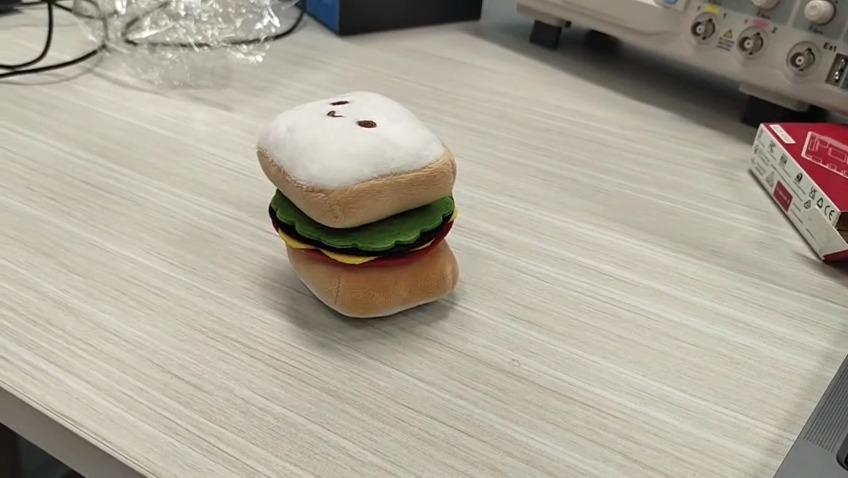objects: (256, 90, 461, 319)
